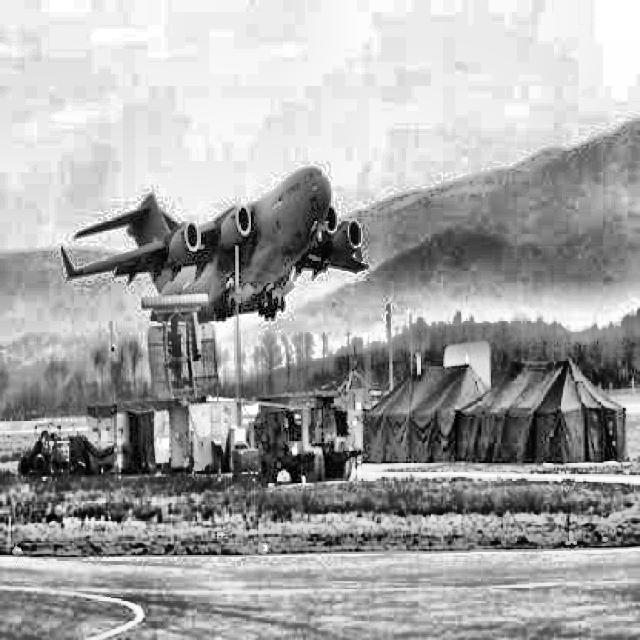C17: (59, 164, 370, 322)
